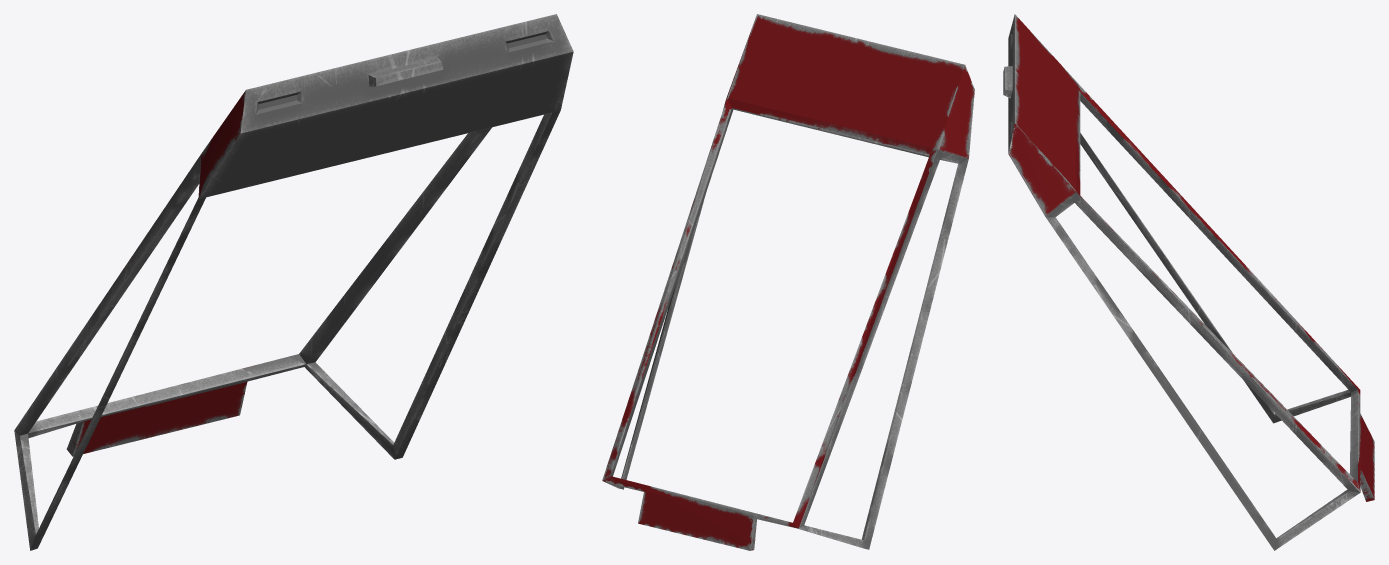
File: Cabin Door.obj
3 renders of one model, left to right at view 1: azimuth 30°, elevation 25°; view 2: azimuth 150°, elevation 25°; view 3: azimuth 270°, elevation 25°, orthographic. The views are drawn at different scales.
Visible parts, largest first — view 1: Object001; view 2: Object001; view 3: Object001.
Part boxes in pixels (x1,y1,x2,y2): Object001: (14,14,573,550); Object001: (602,14,974,550); Object001: (1003,14,1374,550).
Size of the model in its own units: 97.8 by 146 by 117.
1 material, 1 textured.
